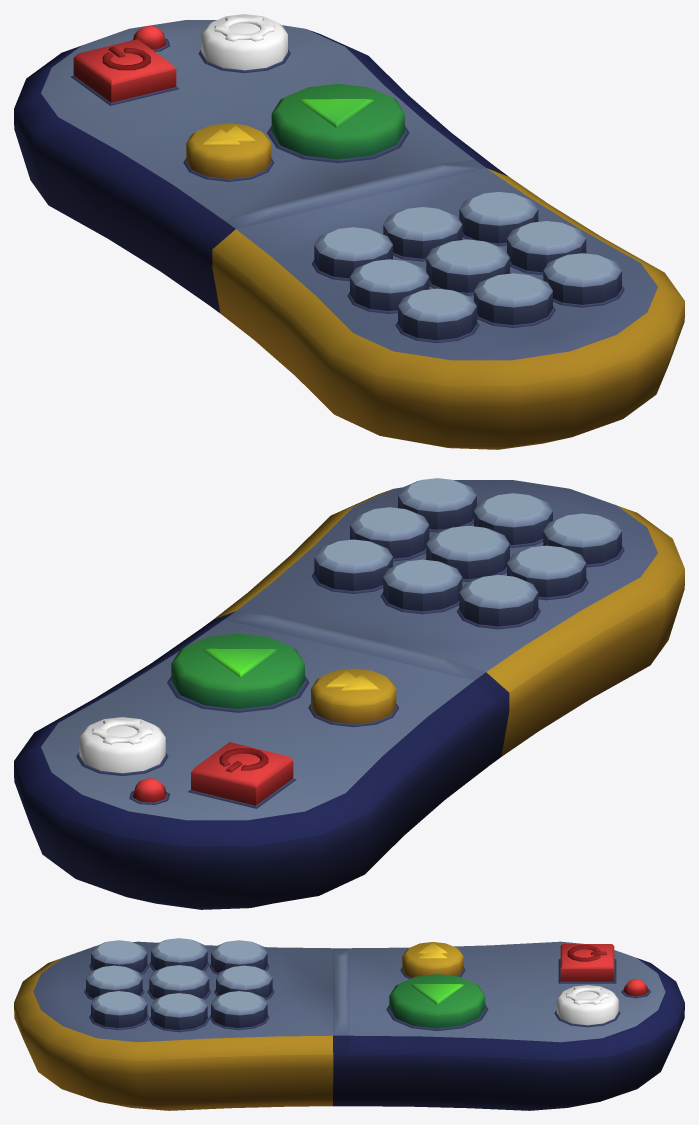
The model's file is Fbx_TvRemote.fbx.
The picture shows the model from 3 angles, top to bottom: view 1: azimuth 30°, elevation 25°; view 2: azimuth 150°, elevation 25°; view 3: azimuth 270°, elevation 25°; orthographic projection. The views are drawn at different scales.
Visible parts, largest first — view 1: TV Remote, Button Pad, Button Resume, Button Quit, Button Settings, Button Restart, Holes; view 2: TV Remote, Button Pad, Button Resume, Button Quit, Button Settings, Button Restart, Holes; view 3: TV Remote, Button Pad, Button Resume, Button Settings, Button Quit, Holes, Button Restart.
Boxes of the visible parts, x1,y1,x2,y2 form: TV Remote: [14, 20, 684, 449]; Button Pad: [314, 192, 621, 340]; Button Resume: [271, 83, 404, 159]; Button Quit: [73, 39, 176, 102]; Button Settings: [201, 14, 287, 70]; Button Restart: [186, 123, 271, 178]; Holes: [70, 49, 624, 342]; TV Remote: [14, 480, 684, 909]; Button Pad: [314, 478, 621, 626]; Button Resume: [171, 633, 304, 709]; Button Quit: [191, 742, 293, 805]; Button Settings: [79, 717, 165, 773]; Button Restart: [311, 668, 396, 724]; Holes: [76, 518, 624, 808]; TV Remote: [14, 941, 684, 1110]; Button Pad: [86, 938, 272, 1030]; Button Resume: [389, 974, 485, 1028]; Button Settings: [556, 985, 618, 1025]; Button Quit: [560, 944, 614, 981]; Holes: [84, 959, 620, 1032]; Button Restart: [402, 942, 463, 977].
Size of what is drawn, in the model's own units: 4.26 by 1.73 by 10.32.
